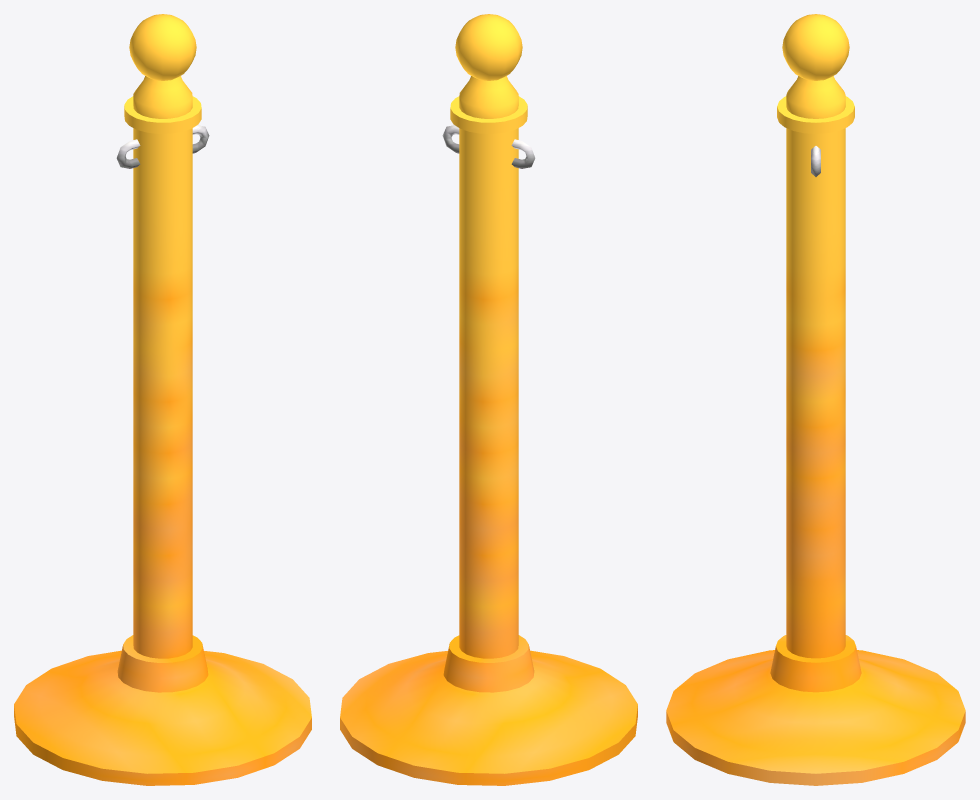
File: aefcbb59-05eb-49f9-8c10-9a178e03ad09.glb
The picture shows the model from 3 angles, left to right: view 1: azimuth 30°, elevation 25°; view 2: azimuth 150°, elevation 25°; view 3: azimuth 270°, elevation 25°; orthographic projection.
Visible parts, largest first — view 1: VelvetRopesAndVipAreasVelvetRopeSolo; view 2: VelvetRopesAndVipAreasVelvetRopeSolo; view 3: VelvetRopesAndVipAreasVelvetRopeSolo.
Boxes of the visible parts, x1,y1,x2,y2 form: VelvetRopesAndVipAreasVelvetRopeSolo: (14, 14, 311, 785); VelvetRopesAndVipAreasVelvetRopeSolo: (340, 14, 637, 785); VelvetRopesAndVipAreasVelvetRopeSolo: (666, 14, 965, 785).
Size of what is drawn, in the model's own units: 0.4361 by 1.13 by 0.4361.
Materials: 1 (1 with a texture image).
